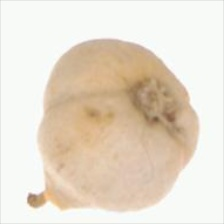L3: (24, 167, 93, 211)
L4: (26, 39, 199, 212)
